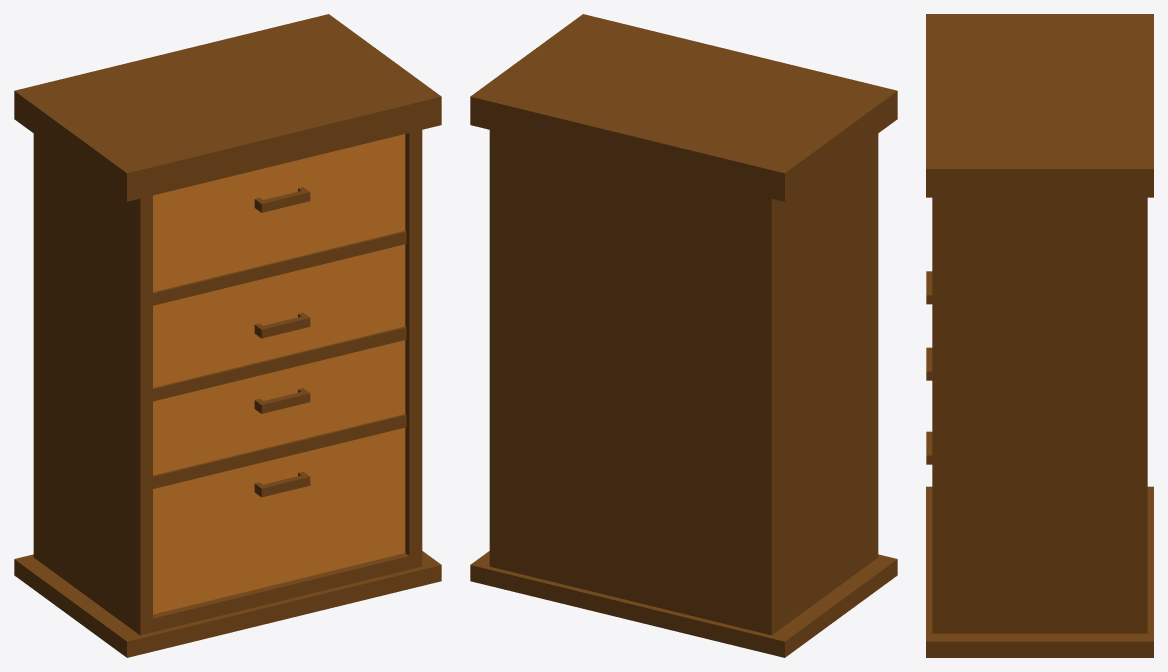
The model's file is Laci 5.fbx.
The picture shows the model from 3 angles, left to right: view 1: azimuth 30°, elevation 25°; view 2: azimuth 150°, elevation 25°; view 3: azimuth 270°, elevation 25°; orthographic projection.
Visible parts, largest first — view 1: jendela.006; view 2: jendela.006; view 3: jendela.006.
Boxes of the visible parts, x1=… form: jendela.006: x1=14, y1=14, x2=441, y2=657; jendela.006: x1=470, y1=14, x2=897, y2=657; jendela.006: x1=926, y1=14, x2=1153, y2=657.
Size of the model in its own units: 718 by 1057 by 447.
